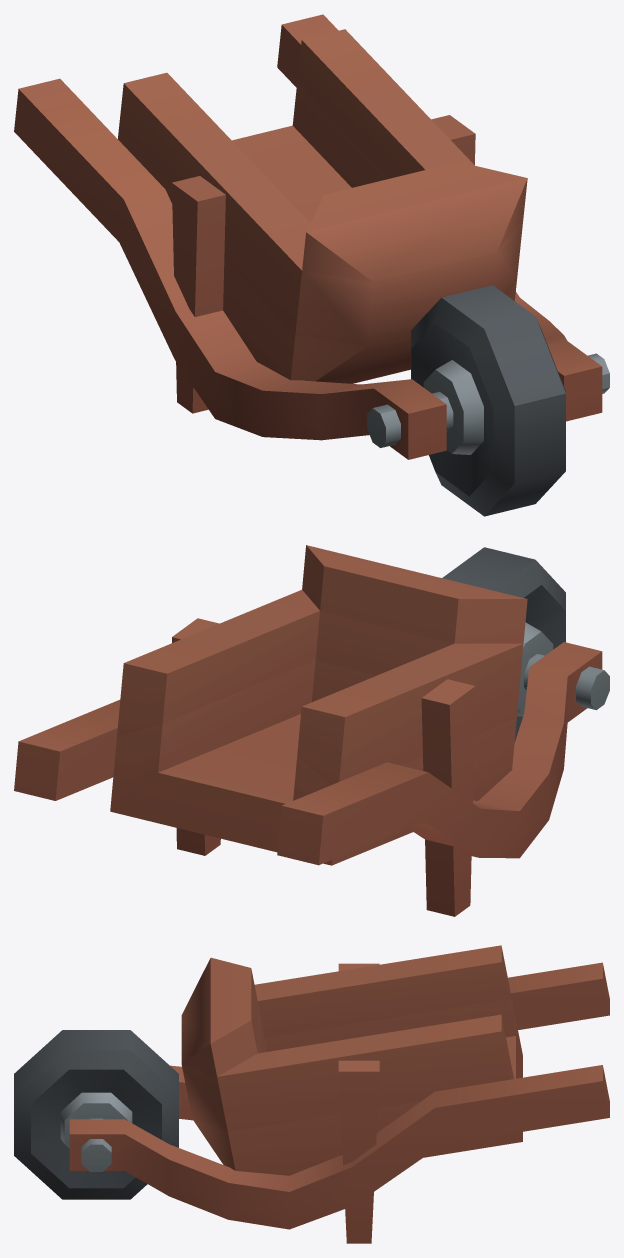
Rendered from wheelbarrow.glb.
The picture shows the model from 3 angles, top to bottom: view 1: azimuth 30°, elevation 25°; view 2: azimuth 150°, elevation 25°; view 3: azimuth 270°, elevation 25°; orthographic projection. The views are drawn at different scales.
Visible parts, largest first — view 1: wheelbarrow; view 2: wheelbarrow; view 3: wheelbarrow.
Part boxes in pixels (<box>): wheelbarrow: <box>14,14,609,516</box>; wheelbarrow: <box>14,545,609,916</box>; wheelbarrow: <box>14,945,609,1243</box>.
Bounding box in the file's own units: 0.238 × 0.1884 × 0.5057.
Materials: 1 (1 with a texture image).
